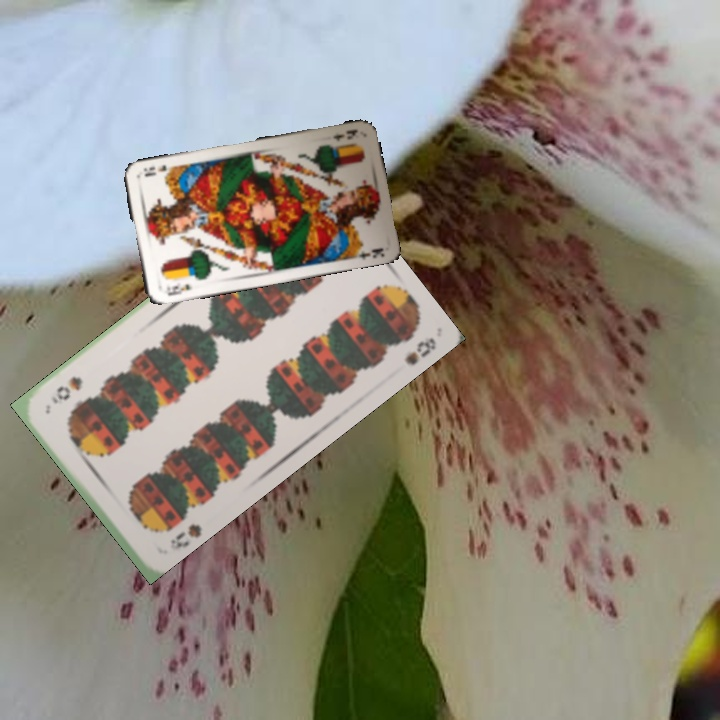EK: (159, 280, 195, 298), (329, 125, 360, 144)
S8: (165, 519, 205, 553)
